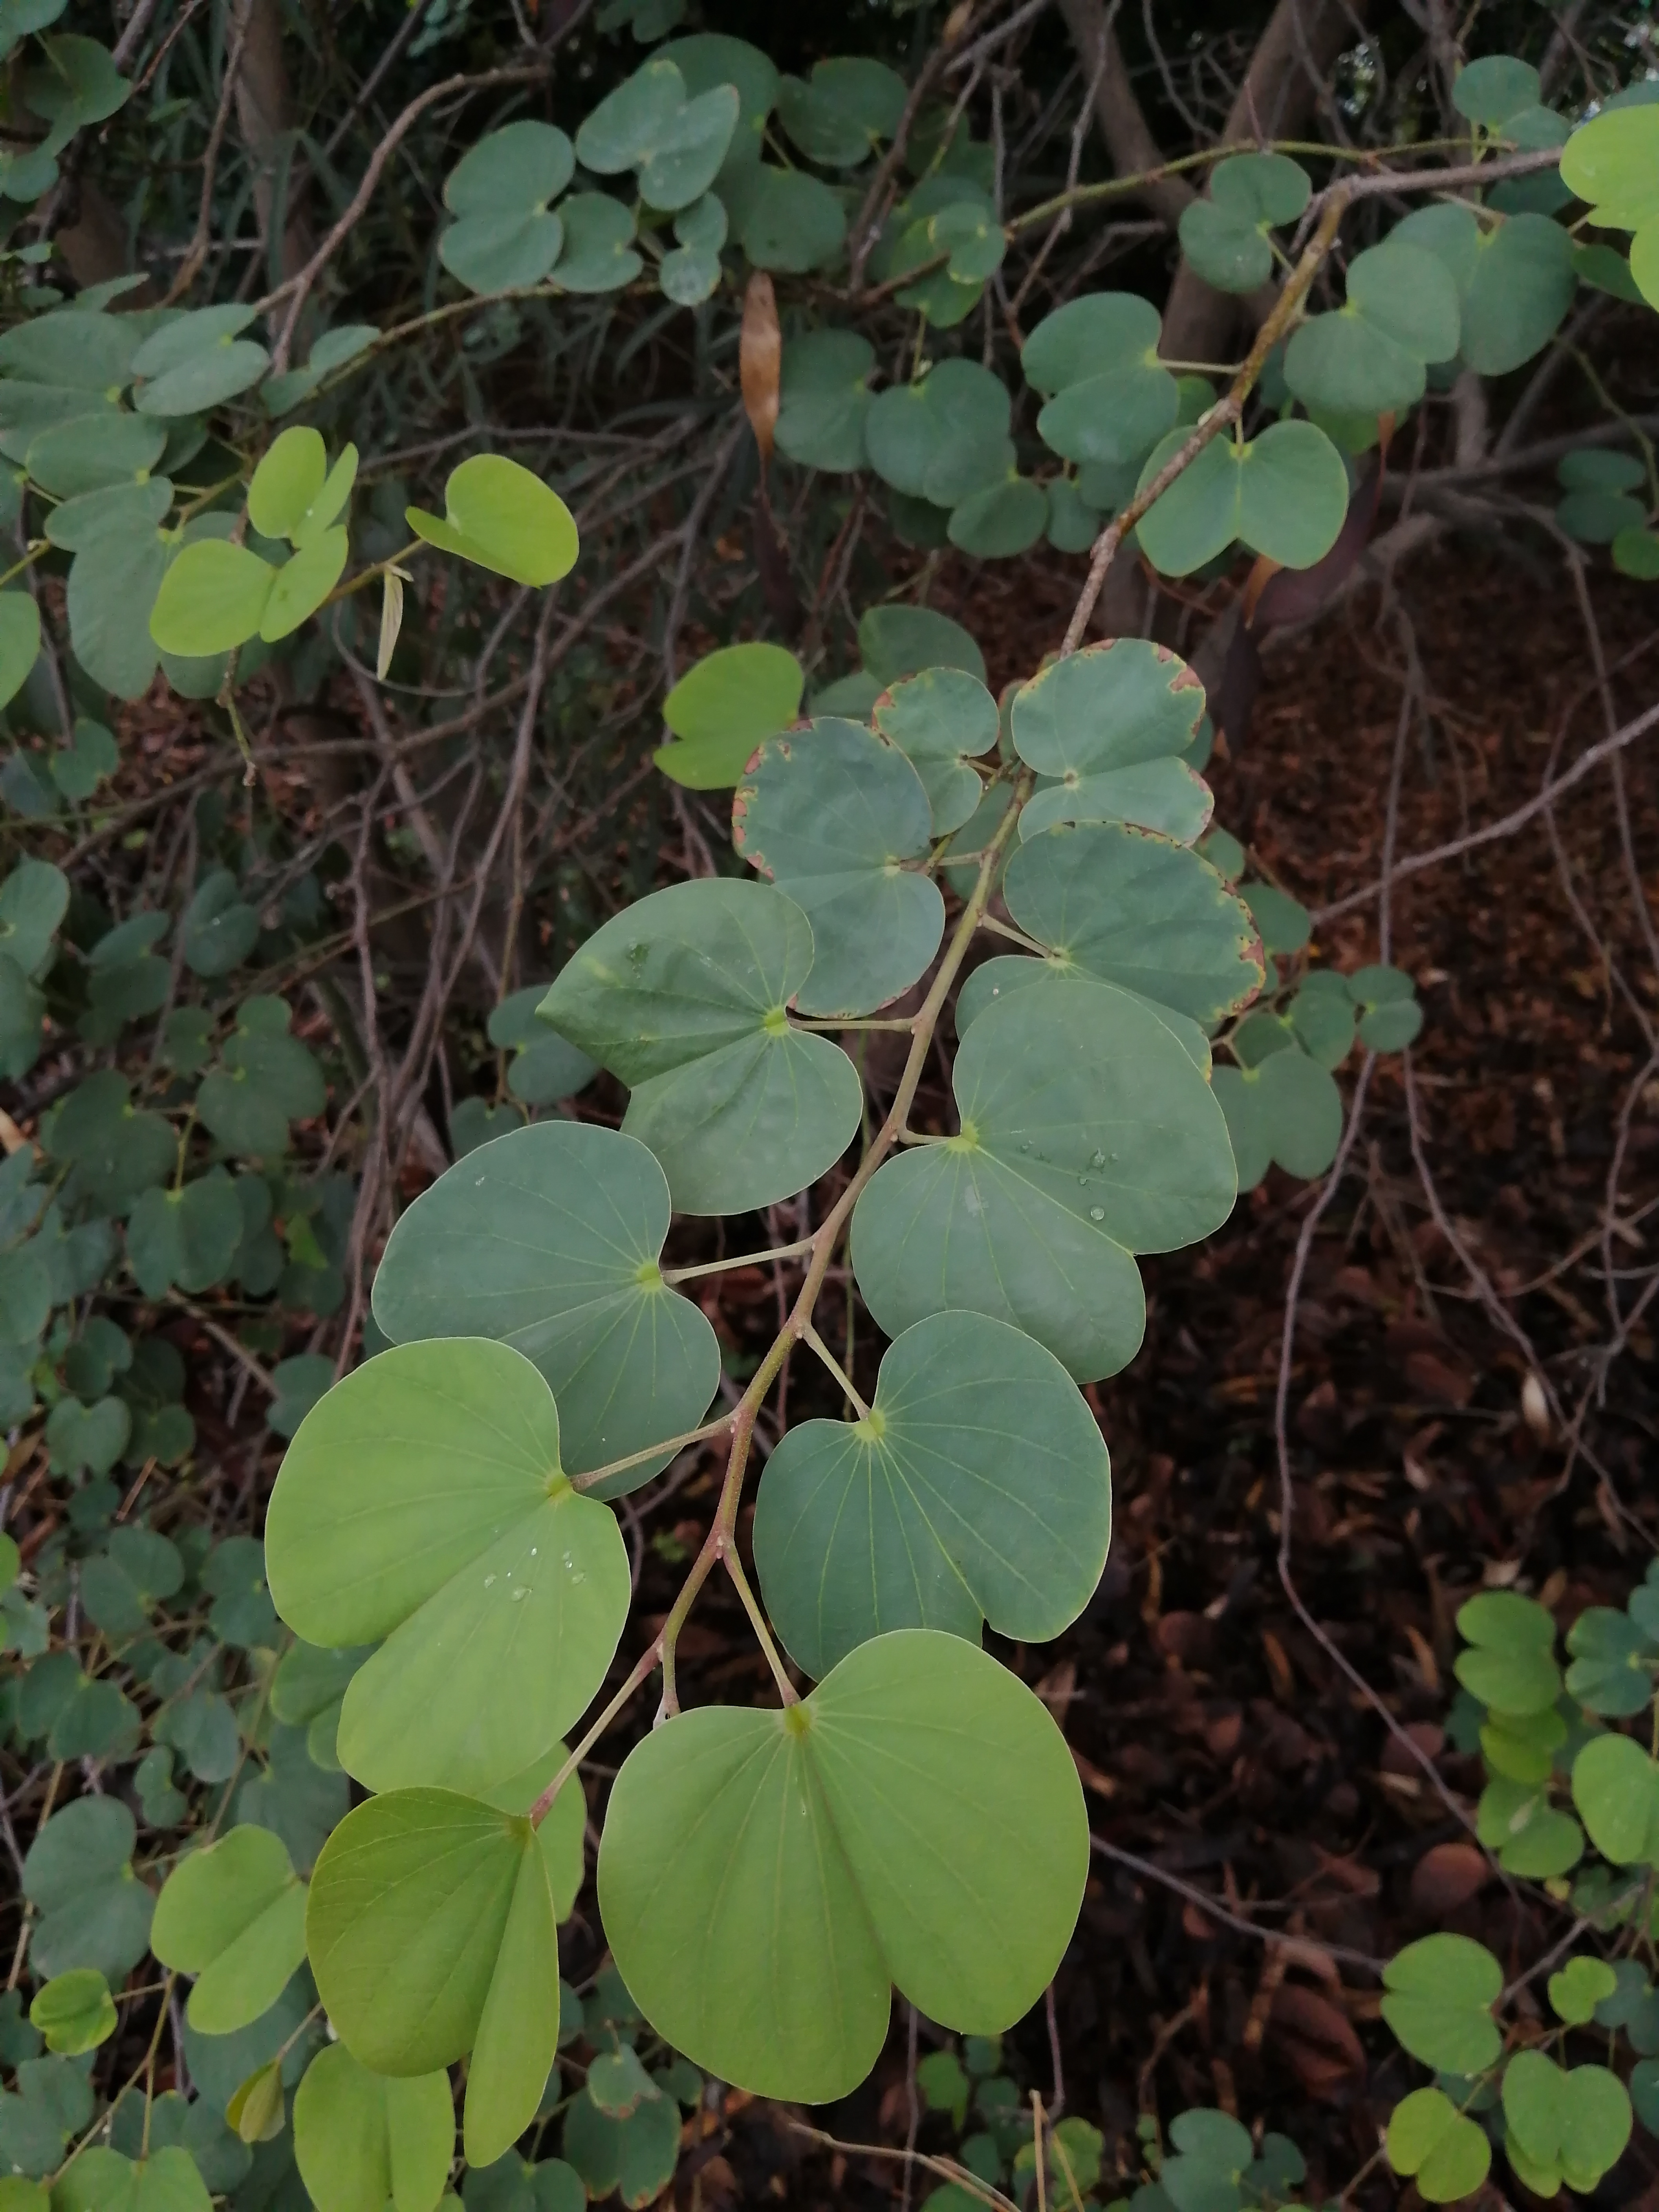healthy: (582, 1623, 1122, 2120), (258, 1318, 681, 1848), (847, 961, 1253, 1395), (760, 1298, 1147, 1707), (354, 1108, 714, 1494), (291, 1791, 580, 2181)
nothealthy: (730, 711, 943, 1021), (997, 637, 1237, 855)
